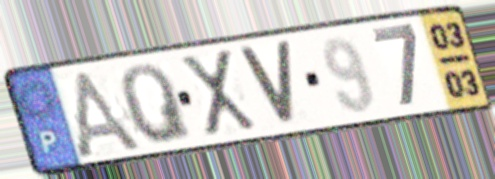7: (367, 20, 423, 111)
9: (321, 35, 376, 116)
A: (71, 66, 148, 158)
Q: (118, 61, 197, 146)
V: (234, 39, 299, 128)
X: (176, 46, 261, 141)
